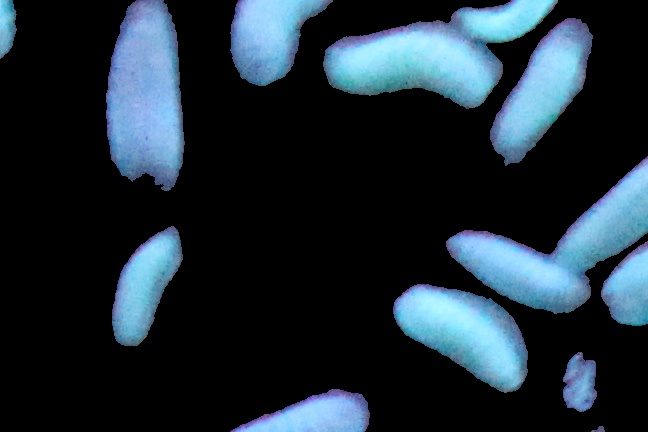larvae: (322, 23, 500, 111), (104, 1, 182, 194), (490, 18, 591, 164), (394, 285, 528, 394), (444, 232, 592, 313), (553, 160, 648, 273), (220, 1, 335, 87), (109, 226, 183, 345), (445, 1, 564, 40)
